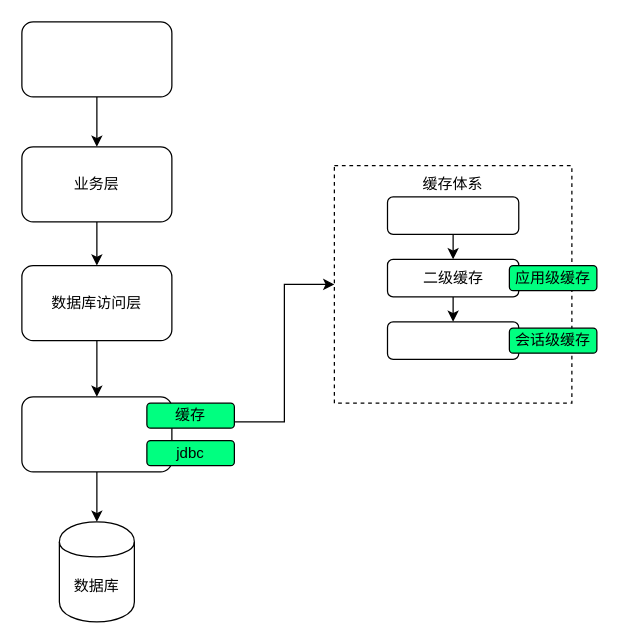
Some shapes in this 619 by 644 pixel diagram are drawn without their labels. The shapes that lost their labels are listed below. From the top down, each one's box as (x1, y1, x2, y2) in pixels, then its label:
(21, 21, 172, 97): 控制层
(386, 196, 519, 234): session会话
(386, 321, 519, 359): 一级缓存
(21, 396, 172, 472): mybatis
